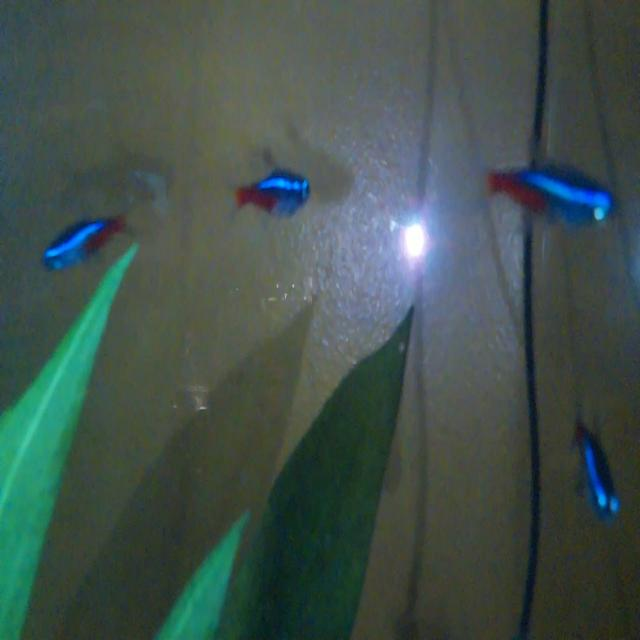fish: (487, 138, 619, 237), (563, 394, 623, 526), (233, 136, 319, 225), (38, 201, 131, 269)
